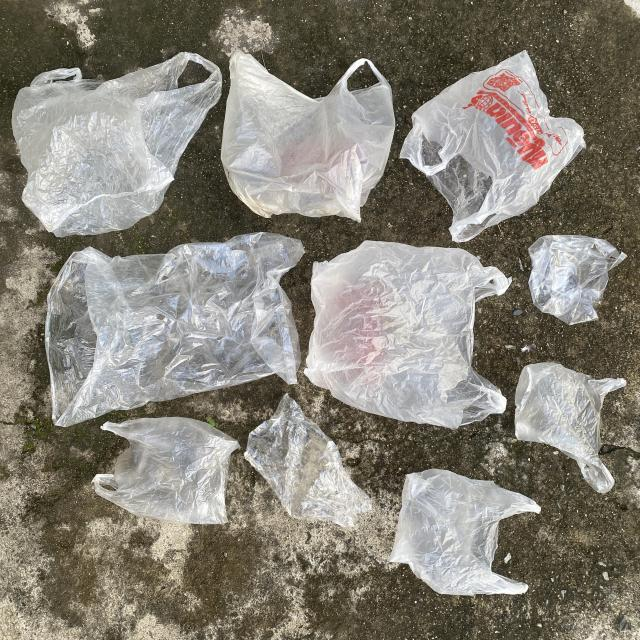Single-layer Plastic: (45, 232, 304, 426), (12, 52, 221, 238), (305, 241, 510, 429), (401, 51, 585, 242), (221, 51, 395, 221), (389, 469, 540, 595), (244, 394, 371, 528), (92, 418, 239, 524), (515, 362, 626, 492), (529, 235, 626, 325)
